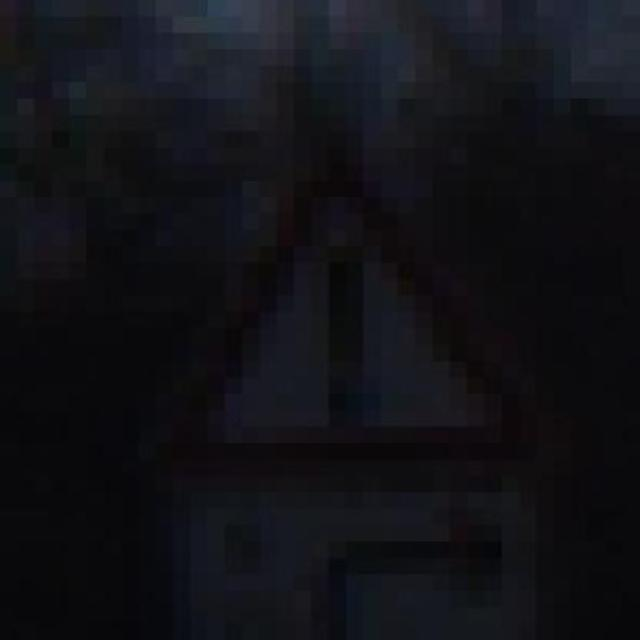Attention Please-: (143, 163, 525, 492)
